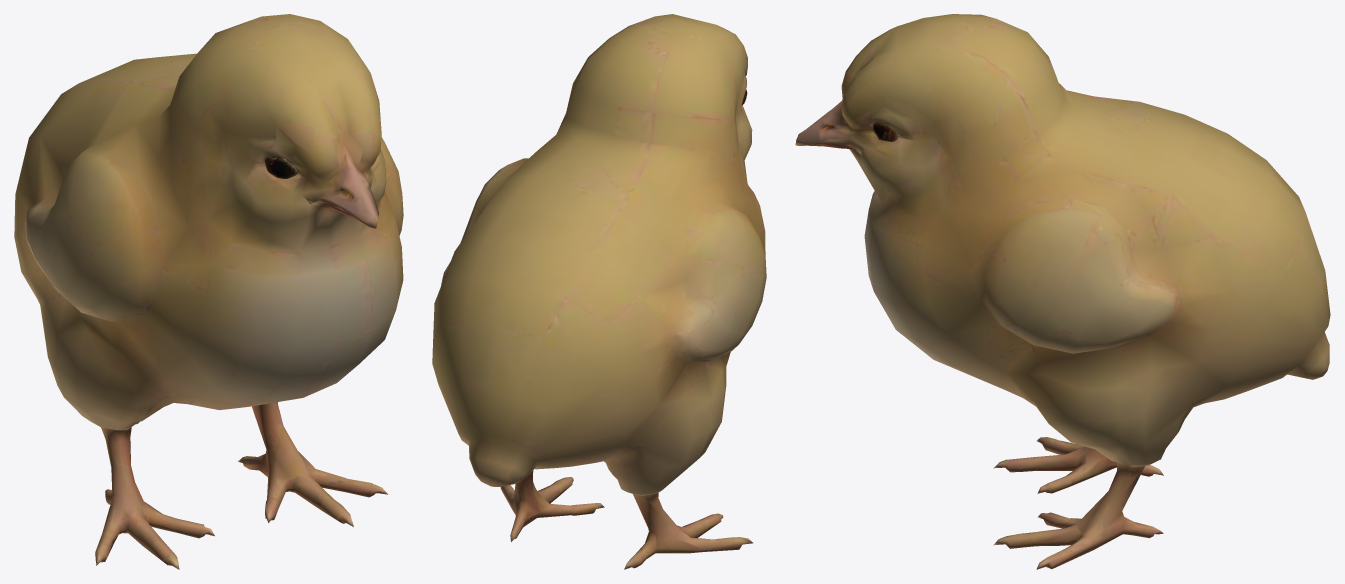
The model's file is pintinho.glb.
3 renders of one model, left to right at view 1: azimuth 30°, elevation 25°; view 2: azimuth 150°, elevation 25°; view 3: azimuth 270°, elevation 25°, orthographic. The views are drawn at different scales.
Visible parts, largest first — view 1: Baby Chick; view 2: Baby Chick; view 3: Baby Chick.
Boxes of the visible parts, <box> form: Baby Chick: <box>14,14,403,569</box>; Baby Chick: <box>432,14,766,569</box>; Baby Chick: <box>795,14,1330,569</box>.
Bounding box in the file's own units: 0.6133 × 0.998 × 0.998.
1 material, 1 textured.
